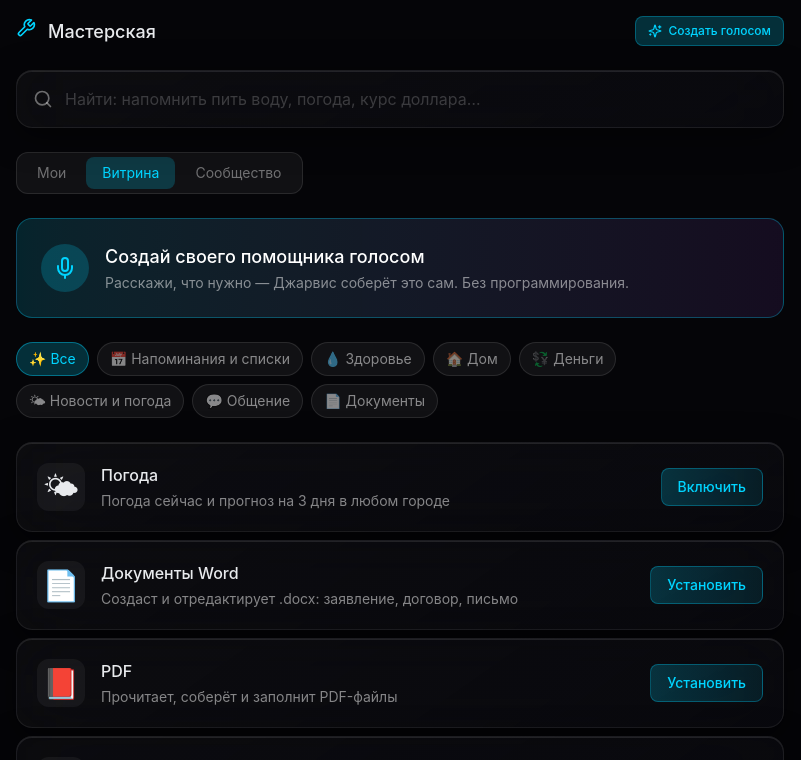
Test: AgentStore (Мастерская) › enables a curated agent: Включить → loadAgent → Работает
Expected: the text "Погода" is shown, [101, 465, 158, 485]
Click the button "Включить": (712, 487) [661, 468, 763, 506]
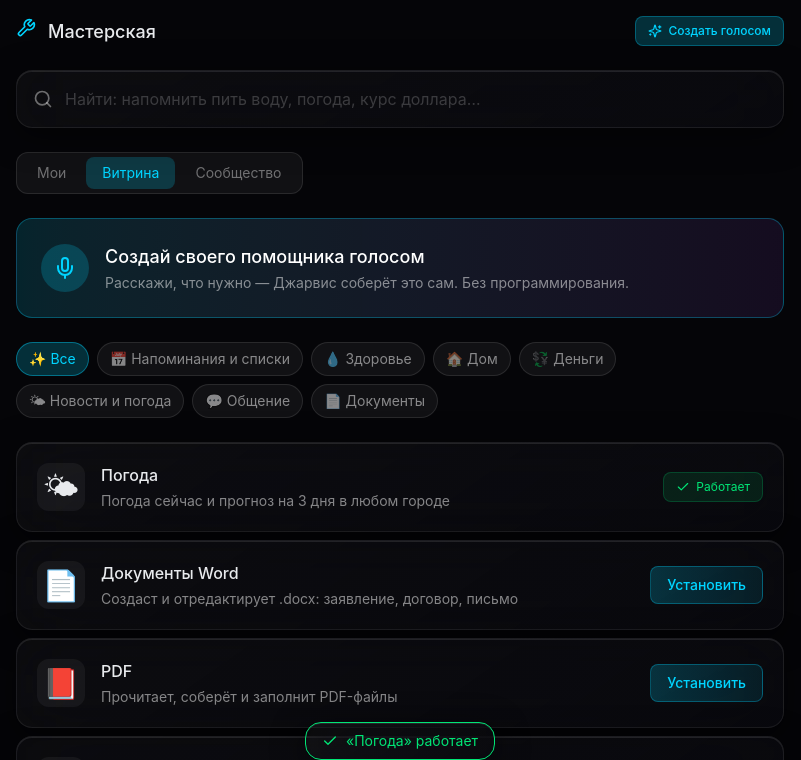
Expected: the text "Погода" shows "Работает", [696, 479, 750, 494]
